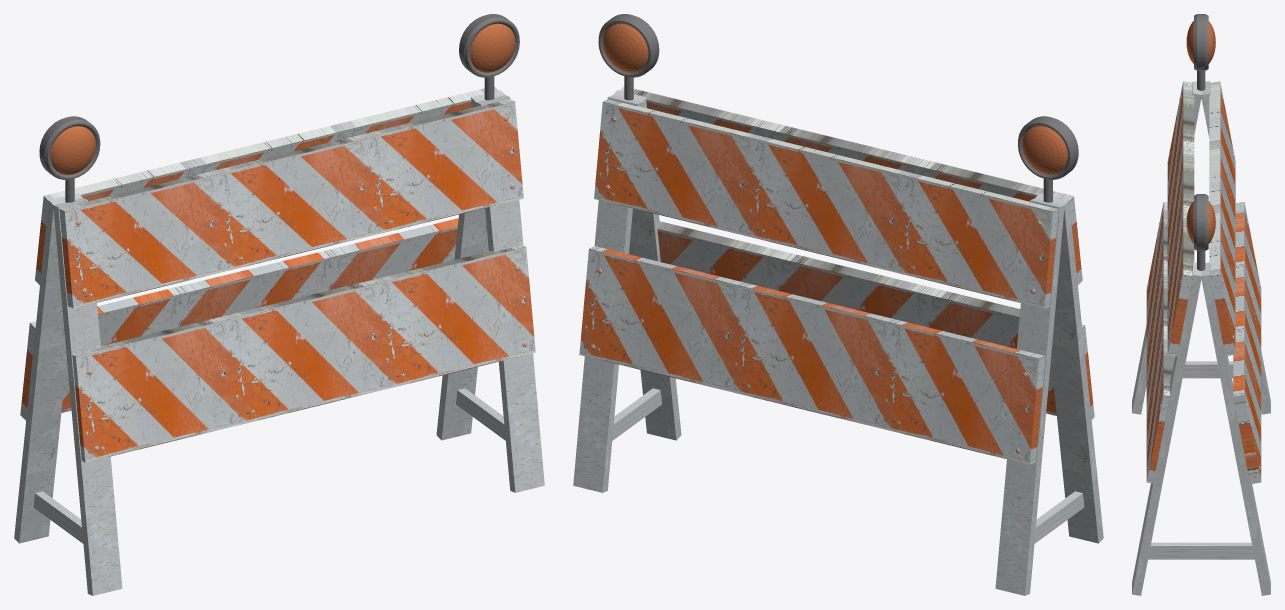
Rendered from realistic_road_barrier.glb.
The picture shows the model from 3 angles, left to right: view 1: azimuth 30°, elevation 25°; view 2: azimuth 150°, elevation 25°; view 3: azimuth 270°, elevation 25°; orthographic projection. The views are drawn at different scales.
Visible parts, largest first — view 1: Cube.001_0; view 2: Cube.001_0; view 3: Cube.001_0.
Boxes of the visible parts, x1,y1,x2,y2 form: Cube.001_0: (14,14,544,595); Cube.001_0: (573,14,1103,595); Cube.001_0: (1132,14,1270,595).
Size of the model in its own units: 1.51 by 1.35 by 0.4329.
4 materials, 2 textured.
